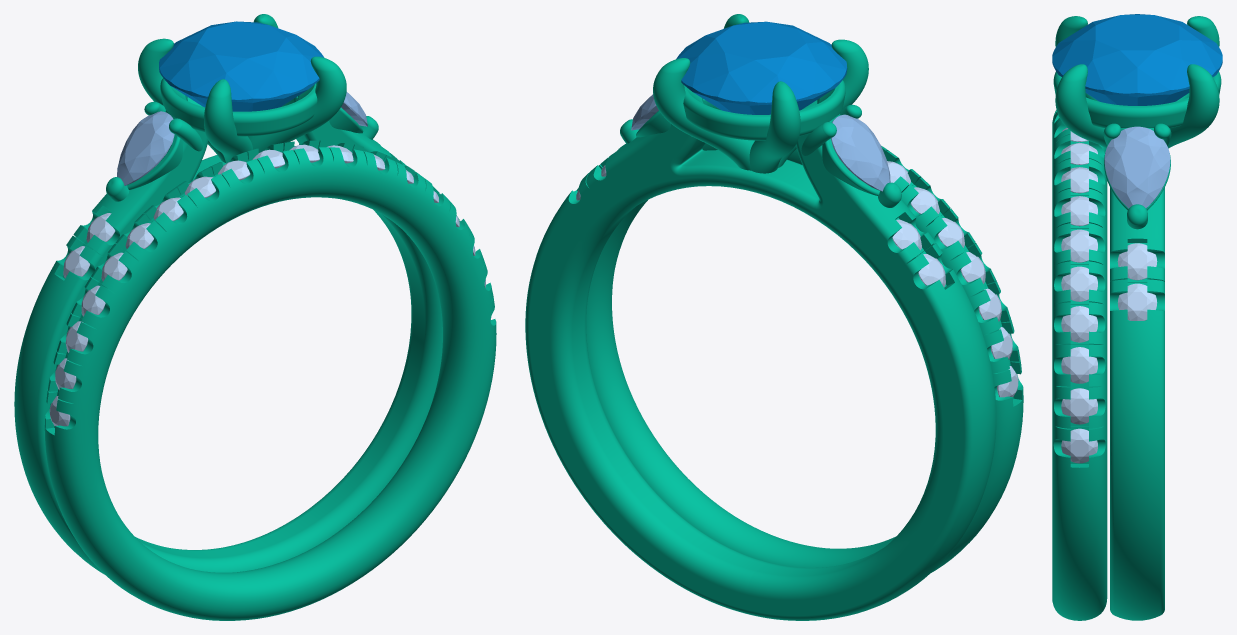
3 views of the same model, side by side, from view 1: azimuth 30°, elevation 25°; view 2: azimuth 150°, elevation 25°; view 3: azimuth 270°, elevation 25° (orthographic). The views are drawn at different scales.
Parts seen in each view (by area): view 1: VR987(render).3dm, Diamond_Round, Bezel (×2), Diamond_Pear; view 2: VR987(render).3dm, Diamond_Round, Bezel (×2), Diamond_Pear; view 3: VR987(render).3dm, Diamond_Round (×12), Diamond_Pear, Bezel (×2), Head Prong (×3).
Part boxes in pixels (x1=…): VR987(render).3dm: x1=14, y1=14, x2=496, y2=620; Diamond_Round: x1=159, y1=21, x2=324, y2=111; Bezel (×2): x1=127, y1=78, x2=317, y2=189; Diamond_Pear: x1=117, y1=111, x2=174, y2=185; VR987(render).3dm: x1=525, y1=14, x2=1023, y2=620; Diamond_Round: x1=676, y1=21, x2=847, y2=114; Bezel (×2): x1=683, y1=80, x2=879, y2=195; Diamond_Pear: x1=831, y1=114, x2=890, y2=191; VR987(render).3dm: x1=1052, y1=16, x2=1219, y2=620; Diamond_Round (×12): x1=1052, y1=14, x2=1222, y2=463; Diamond_Pear: x1=1104, y1=126, x2=1170, y2=208; Bezel (×2): x1=1053, y1=71, x2=1221, y2=210; Head Prong (×3): x1=1103, y1=123, x2=1171, y2=229.
Size of the model in its own units: 2.52 by 3 by 0.8224.
